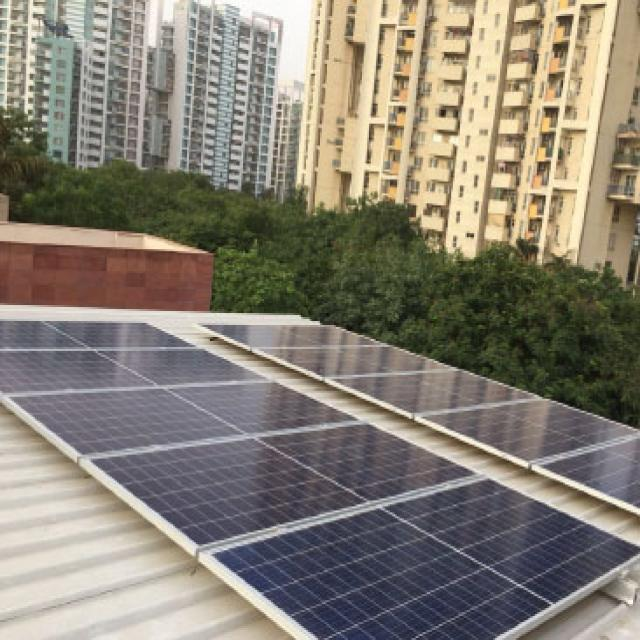clean-solar-panel: (1, 321, 640, 637), (208, 325, 640, 515)
